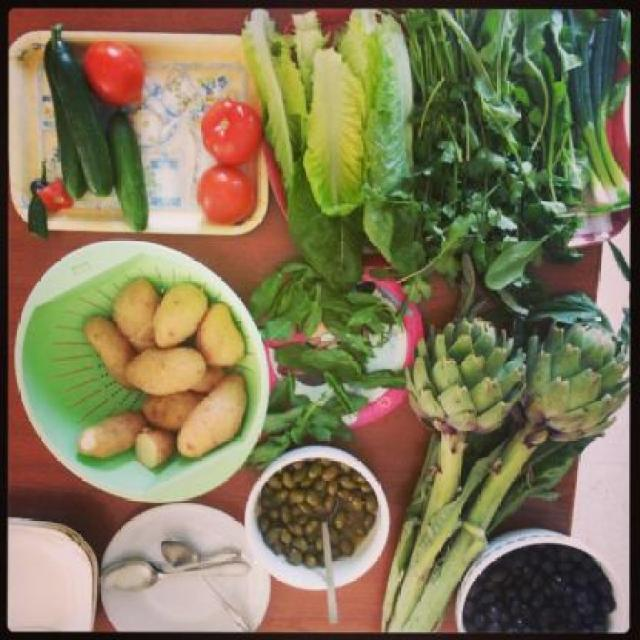Zucchini: (46, 23, 109, 196), (102, 113, 146, 241)
